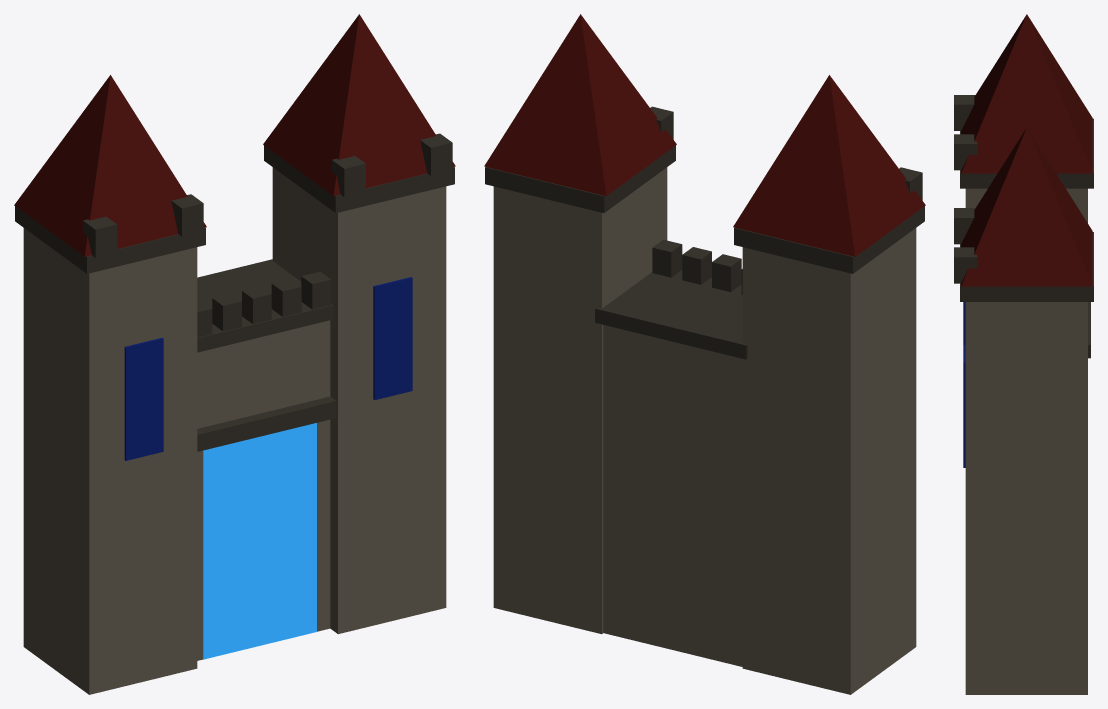
Rendered from gatehouse.glb.
3 renders of one model, left to right at view 1: azimuth 30°, elevation 25°; view 2: azimuth 150°, elevation 25°; view 3: azimuth 270°, elevation 25°, orthographic. The views are drawn at different scales.
Parts seen in each view (by area): view 1: Gatehouse; view 2: Gatehouse; view 3: Gatehouse.
Part boxes in pixels (x1=…): Gatehouse: x1=14, y1=14, x2=455, y2=694; Gatehouse: x1=484, y1=14, x2=925, y2=694; Gatehouse: x1=954, y1=14, x2=1093, y2=694.
Bounding box in the file's own units: 13.73 × 20.6 × 4.8.
